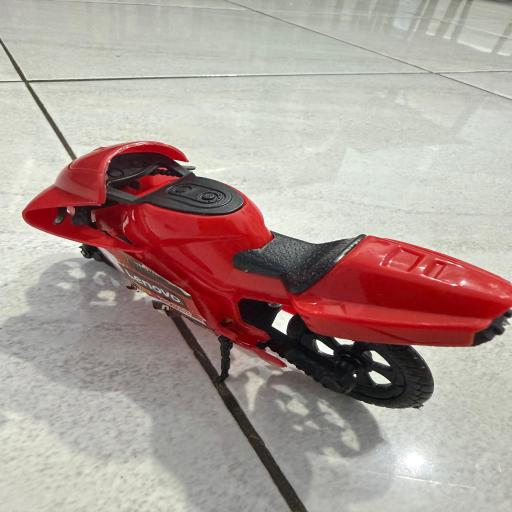motor-merah: (13, 132, 512, 419)
